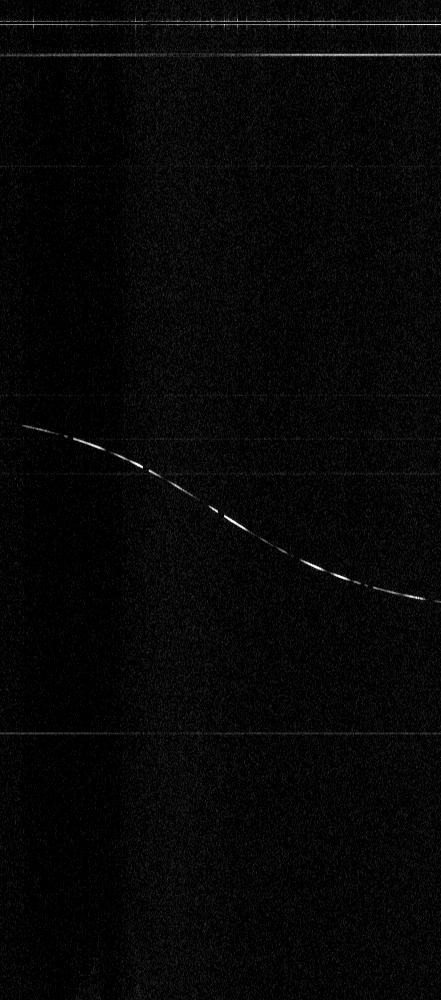signal: (0, 0, 440, 999)
